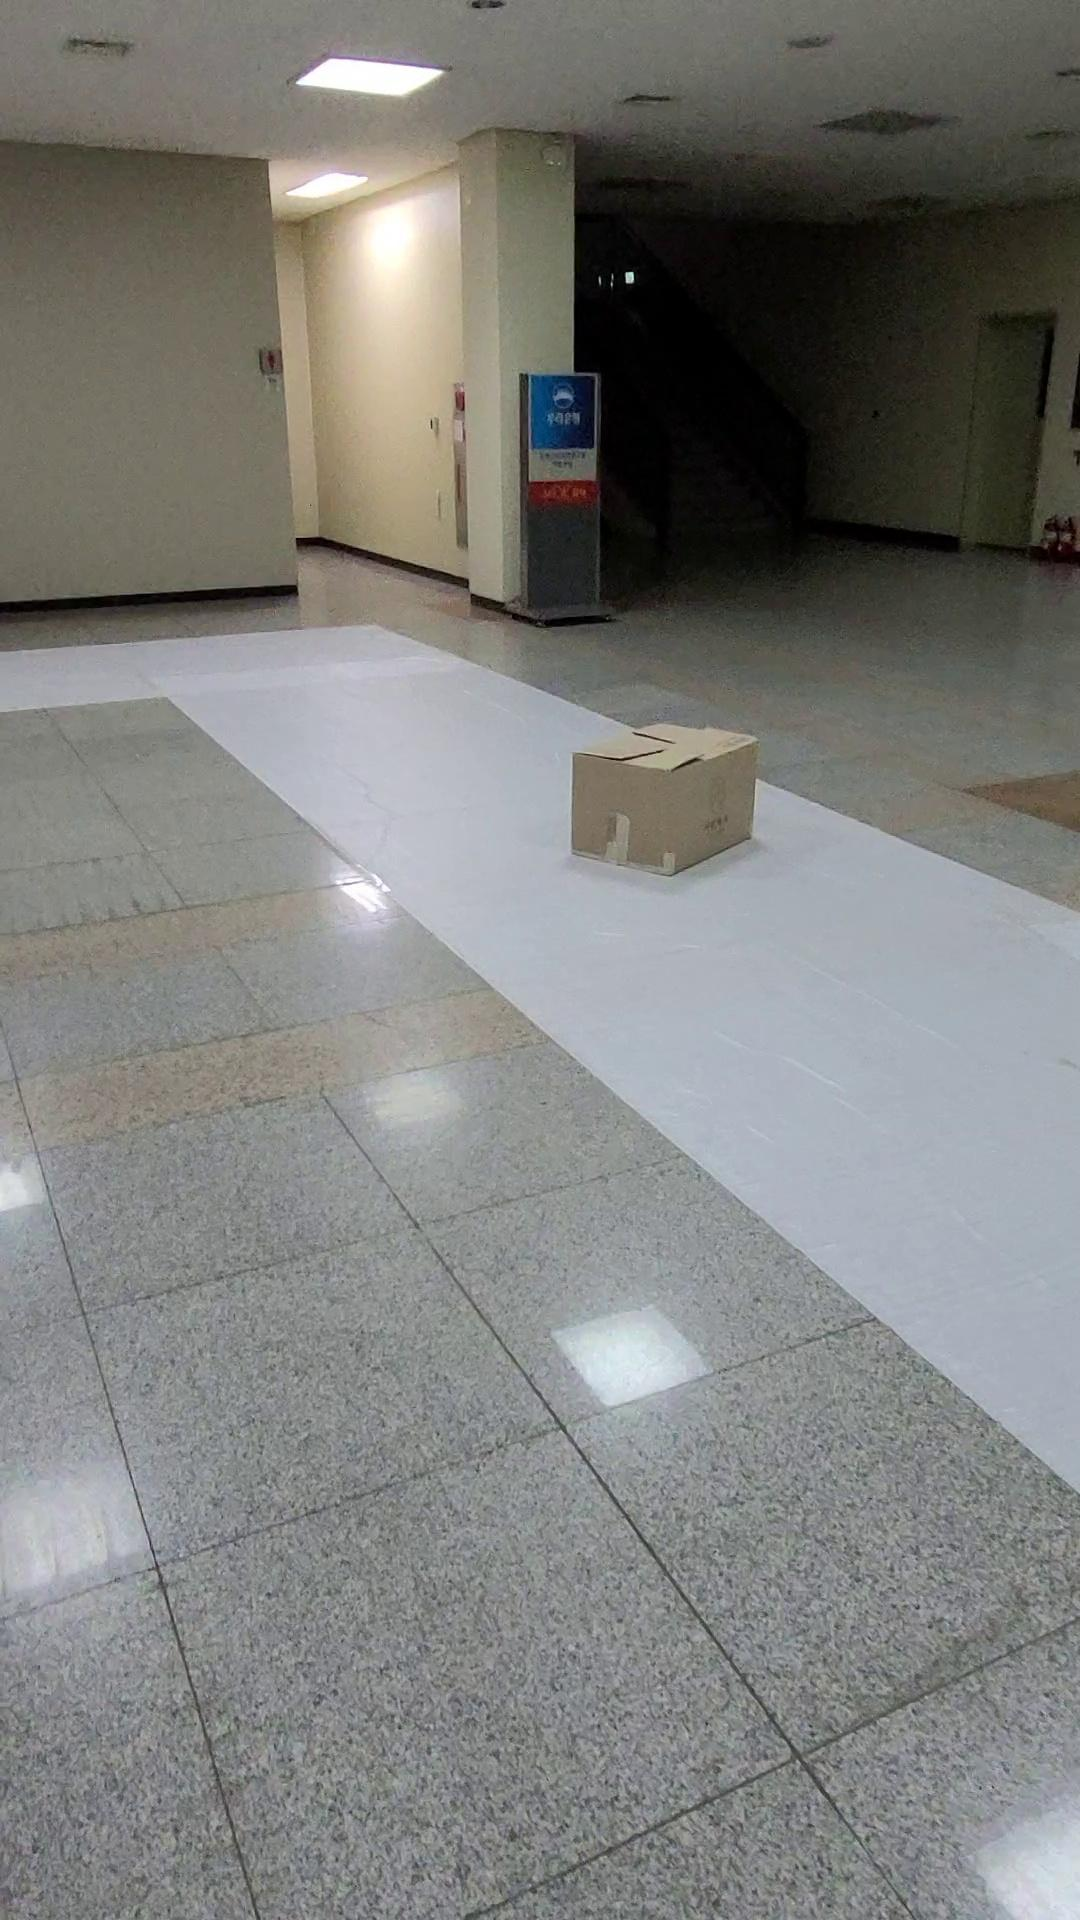Box: (513, 695, 843, 935)
